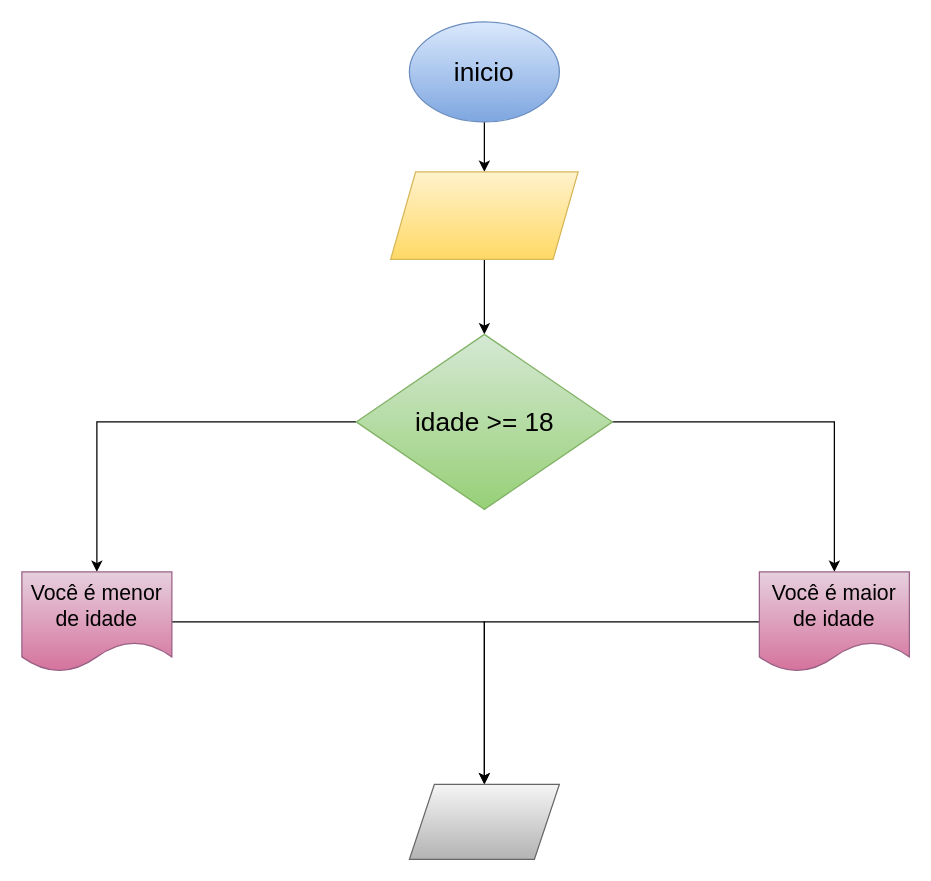
Some shapes in this 931 by 881 pixel diagram are drawn without their labels. Each missing label, with the centre of its shape:
"fim" belongs at (x=483, y=821).
"nome, idade" belongs at (x=483, y=215).
